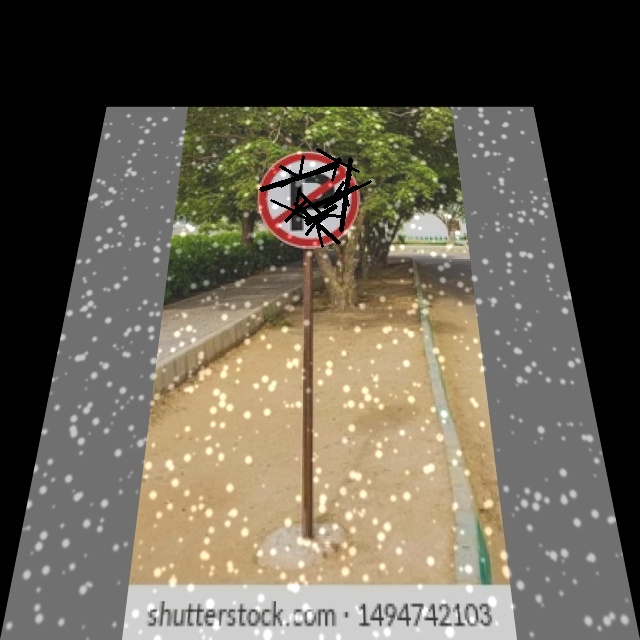No_Parking: (255, 152, 361, 250)
